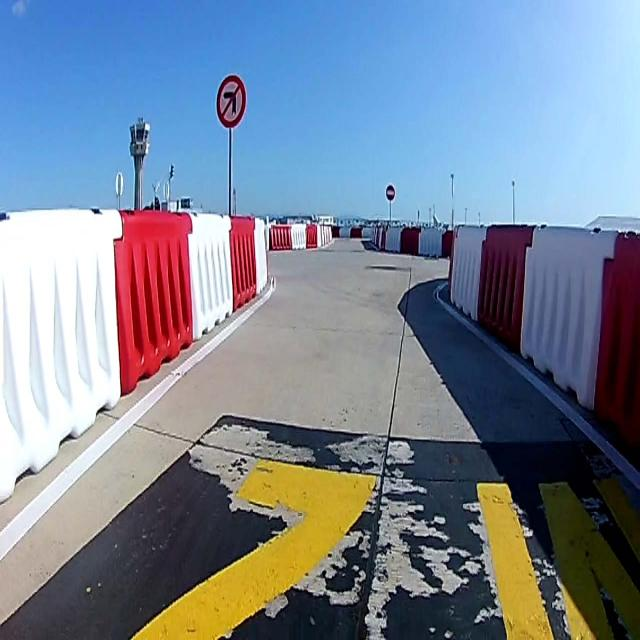soladonulmez: (217, 75, 246, 128)
